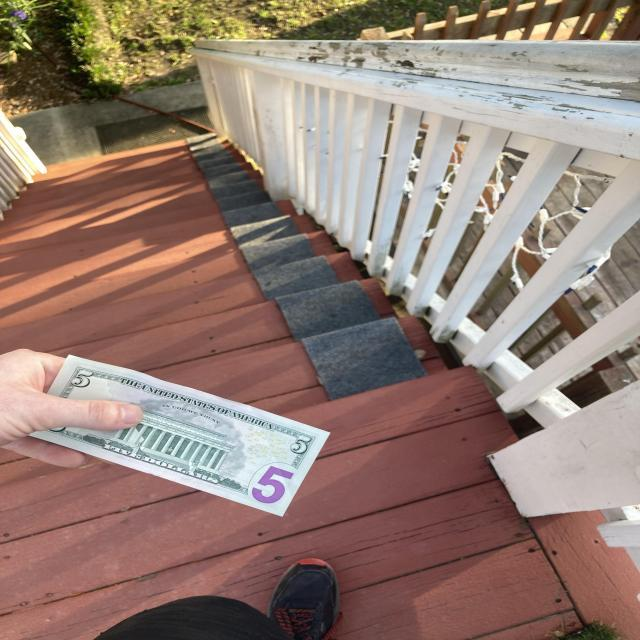five: (25, 354, 331, 516)
